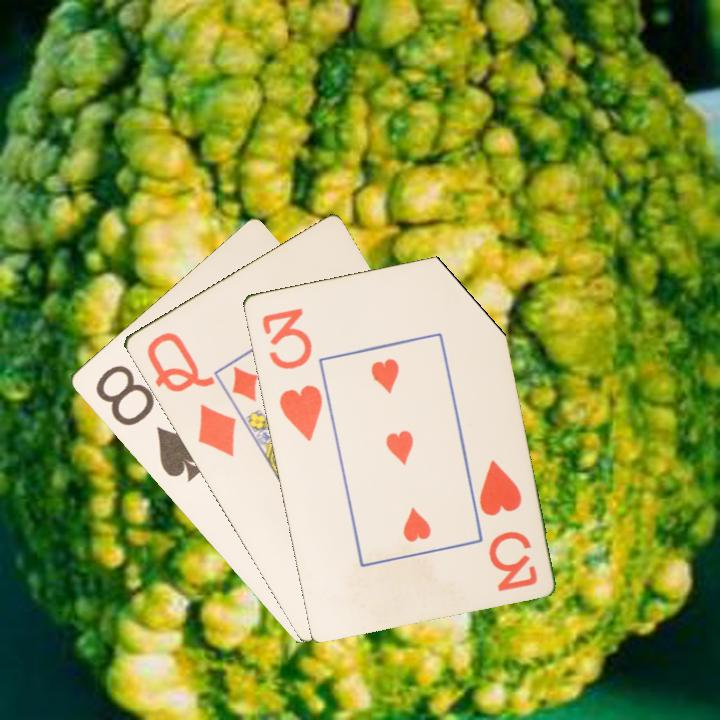3h: (258, 304, 325, 444), (475, 456, 540, 594)
8s: (91, 361, 206, 485)
Qd: (142, 328, 239, 460)
